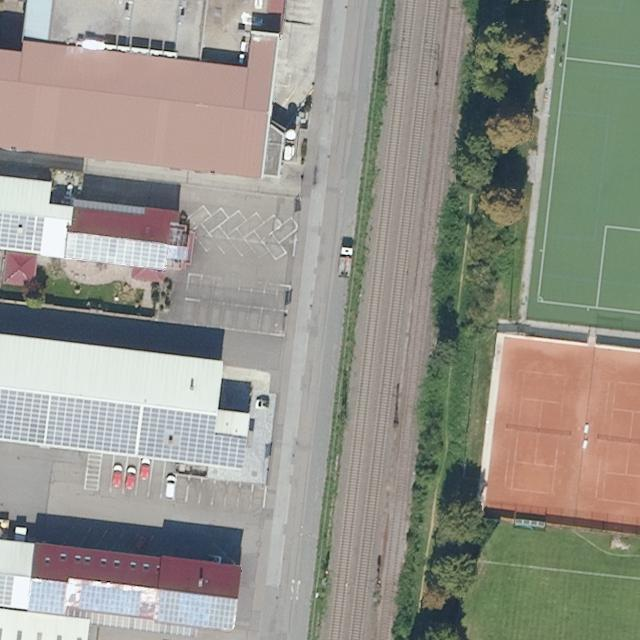PV: (1, 387, 250, 472), (63, 229, 173, 273), (154, 588, 241, 634), (75, 582, 144, 618), (0, 211, 48, 258), (27, 578, 69, 617), (70, 195, 147, 216), (1, 573, 17, 609)
